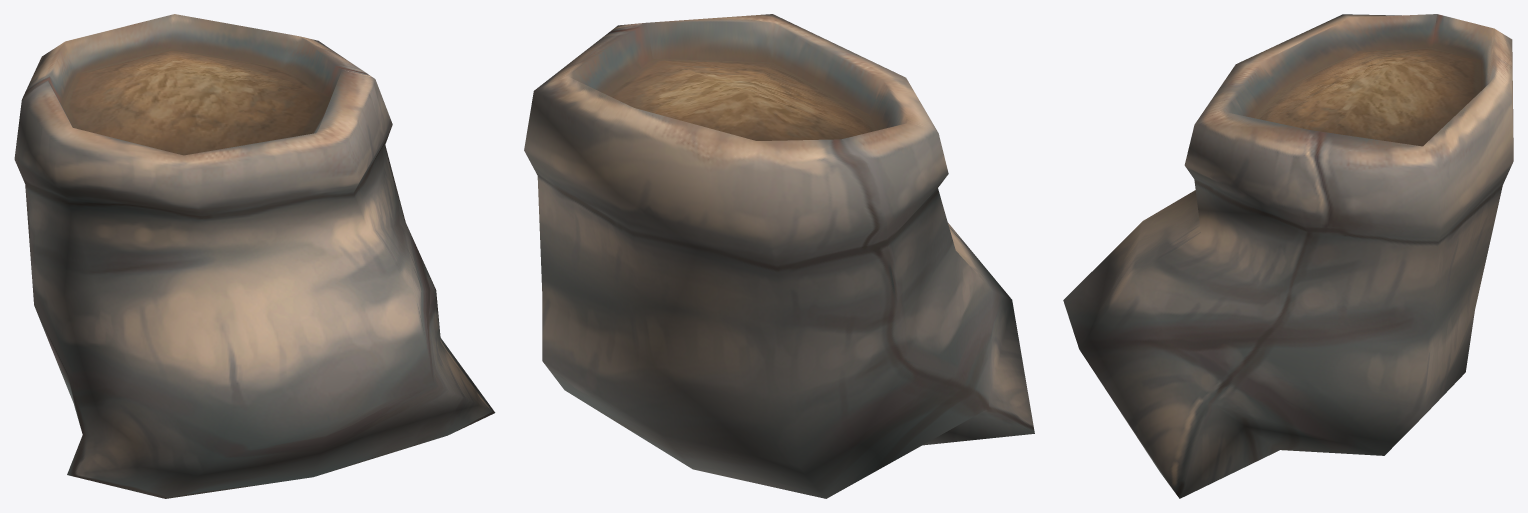
The model's file is sack_of_sand_large2.fbx.
The picture shows the model from 3 angles, left to right: view 1: azimuth 30°, elevation 25°; view 2: azimuth 150°, elevation 25°; view 3: azimuth 270°, elevation 25°; orthographic projection. The views are drawn at different scales.
Visible parts, largest first — view 1: sack_of_sand_large2; view 2: sack_of_sand_large2; view 3: sack_of_sand_large2.
Boxes of the visible parts, x1,y1,x2,y2 form: sack_of_sand_large2: (14, 14, 495, 498); sack_of_sand_large2: (524, 14, 1034, 498); sack_of_sand_large2: (1063, 14, 1513, 498).
Bounding box in the file's own units: 94.01 × 76.78 × 90.64.
